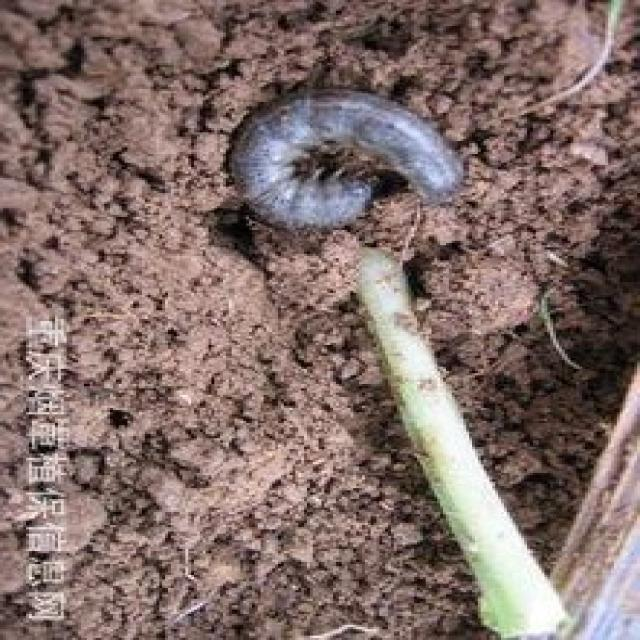black cutworm: (234, 86, 457, 246)
